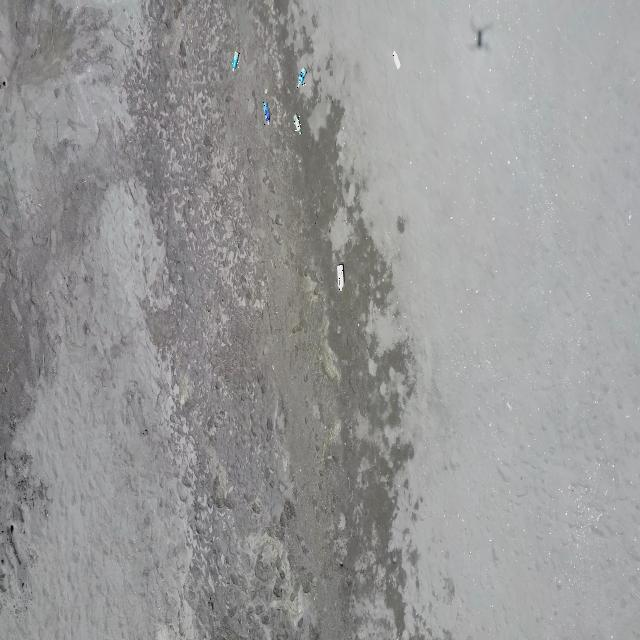plastic-bottle: (297, 67, 307, 88), (337, 262, 344, 290), (293, 113, 301, 135), (263, 102, 270, 125), (232, 52, 240, 72), (393, 51, 401, 70)
